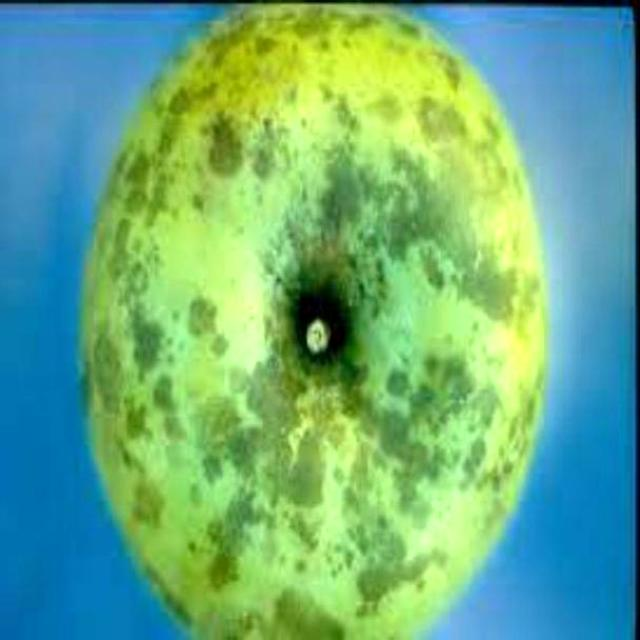BLOTCH: (39, 9, 576, 617)
